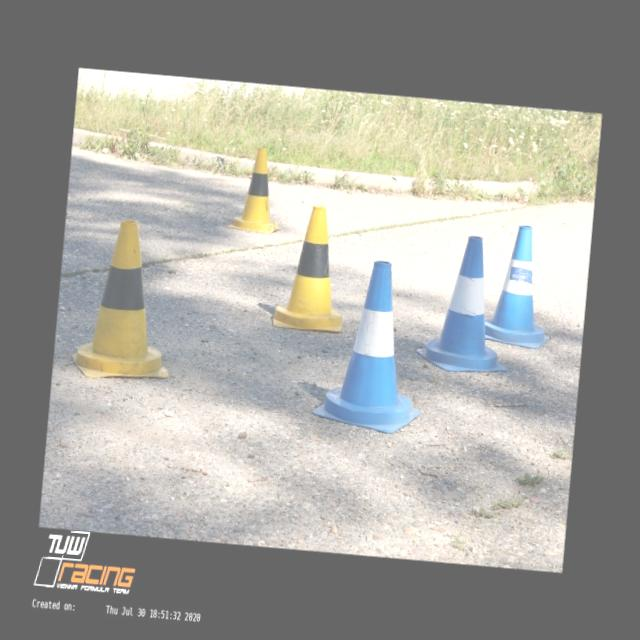blue_cone: (311, 255, 432, 436), (415, 231, 519, 376), (472, 222, 556, 350)
yellow_cone: (70, 214, 182, 385), (272, 202, 352, 332), (227, 145, 288, 234)
